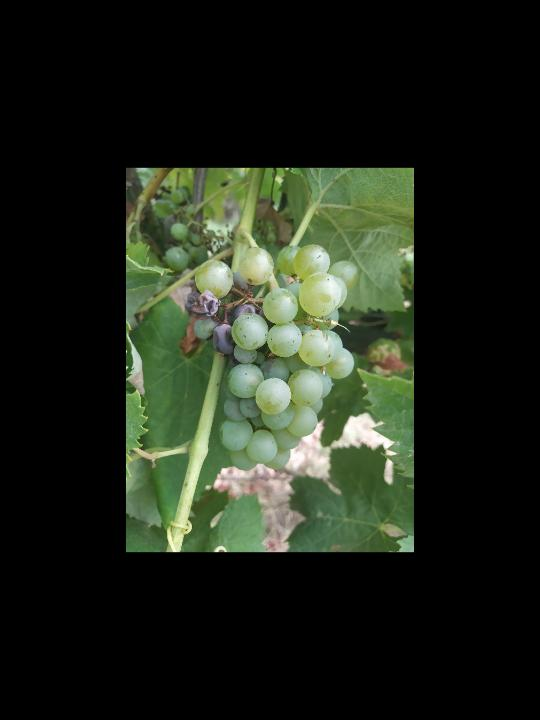grape: (184, 242, 355, 472)
